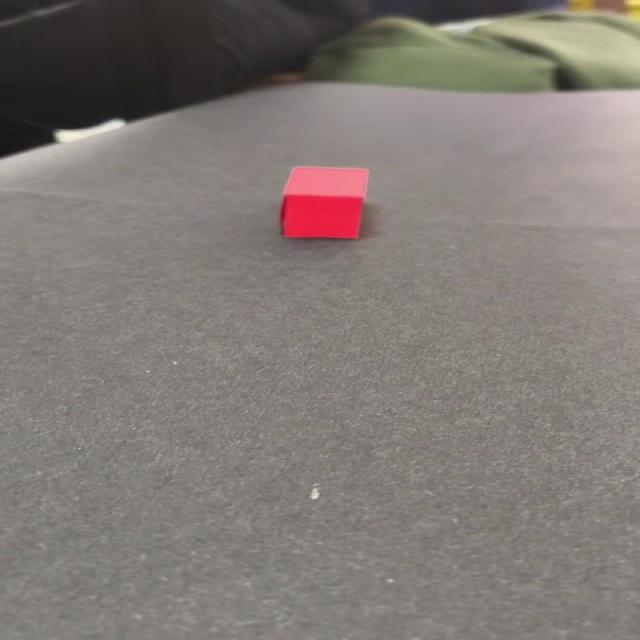red block: (279, 164, 369, 240)
